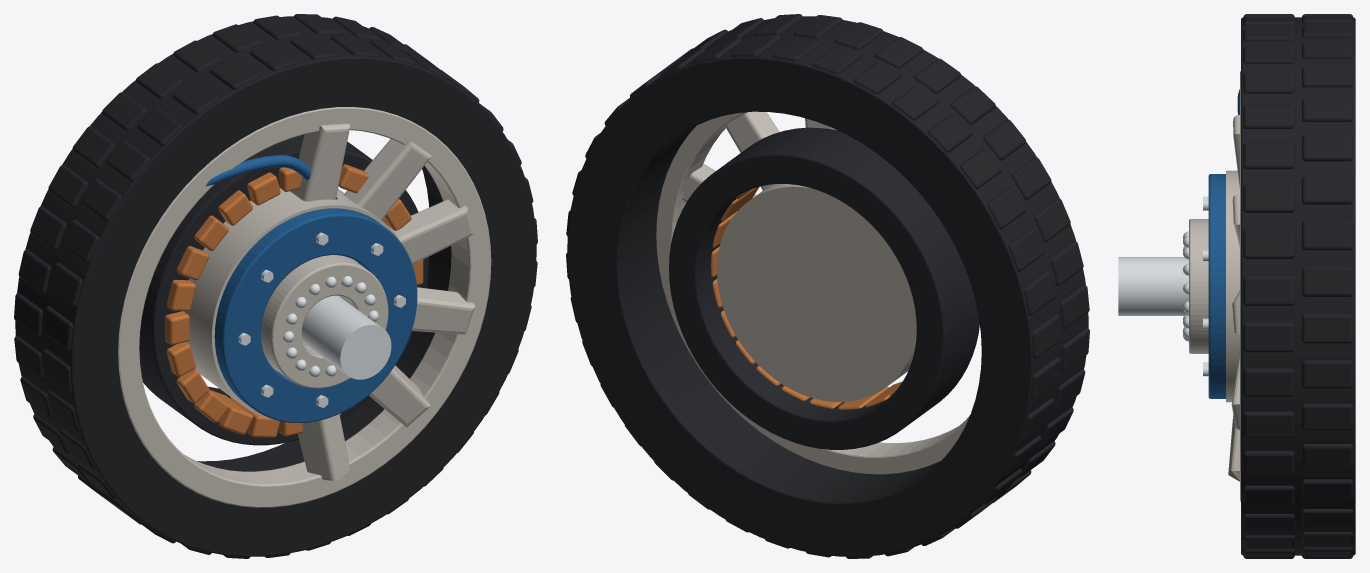
The model's file is anatomy-26.glb.
3 views of the same model, side by side, from view 1: azimuth 30°, elevation 25°; view 2: azimuth 150°, elevation 25°; view 3: azimuth 270°, elevation 25° (orthographic).
Parts seen in each view (by area): view 1: tire, rim, stator, cover, bearing, rotor, axle, wires, hub-fasteners; view 2: tire, stator, rotor, rim; view 3: tire, cover, axle, bearing, rotor, rim, hub-fasteners.
Part boxes in pixels (x1,y1,x2,y2): tire: (14, 14, 537, 558); rim: (118, 107, 491, 507); stator: (139, 134, 428, 445); cover: (214, 208, 417, 422); bearing: (261, 255, 388, 388); rotor: (183, 188, 399, 418); axle: (301, 295, 391, 379); wires: (205, 155, 337, 199); hub-fasteners: (238, 232, 405, 407); tire: (566, 14, 1089, 558); stator: (669, 127, 979, 449); rotor: (717, 184, 916, 401); rim: (656, 111, 969, 474); tire: (1241, 14, 1355, 558); cover: (1208, 174, 1225, 398); axle: (1118, 257, 1188, 315); bearing: (1183, 219, 1208, 353); rotor: (1226, 170, 1239, 402); rim: (1228, 71, 1240, 501); hub-fasteners: (1203, 196, 1208, 376).
Bounding box in the file's own units: 1.94 × 1.94 × 0.8435.
